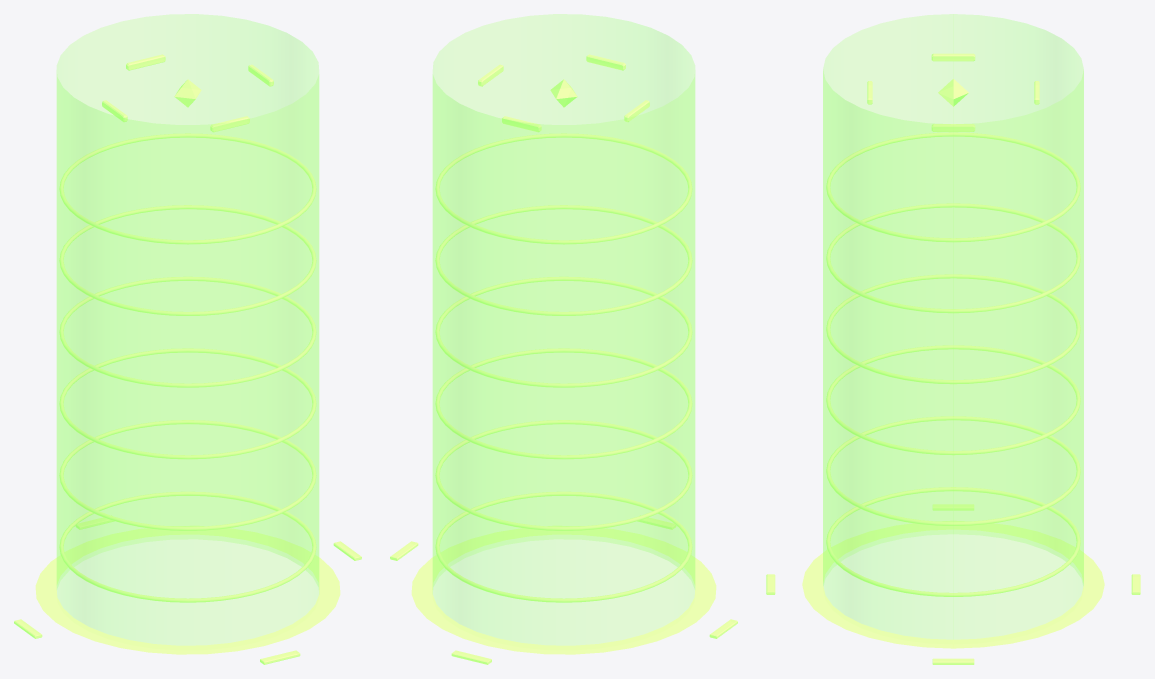
The model's file is vfx_status_reveal.glb.
3 renders of one model, left to right at view 1: azimuth 30°, elevation 25°; view 2: azimuth 150°, elevation 25°; view 3: azimuth 270°, elevation 25°, orthographic.
Visible parts, largest first — view 1: reveal_column, reveal_disc, reveal_scan5, reveal_scan0, reveal_scan1, reveal_scan4, reveal_scan3, reveal_scan2; view 2: reveal_column, reveal_disc, reveal_scan5, reveal_scan0, reveal_scan1, reveal_scan4, reveal_scan3, reveal_scan2; view 3: reveal_column, reveal_disc, reveal_scan5, reveal_scan4, reveal_scan2, reveal_scan0, reveal_scan3, reveal_scan1.
Boxes of the visible parts, x1,y1,x2,y2 form: reveal_column: (56,14,319,645); reveal_disc: (35,526,340,654); reveal_scan5: (59,133,316,244); reveal_scan0: (59,491,316,602); reveal_scan1: (59,420,316,530); reveal_scan4: (59,205,316,315); reveal_scan3: (59,276,316,387); reveal_scan2: (59,348,316,459); reveal_column: (432,14,695,645); reveal_disc: (411,526,716,654); reveal_scan5: (435,133,692,244); reveal_scan0: (435,491,692,602); reveal_scan1: (435,420,692,530); reveal_scan4: (435,205,692,315); reveal_scan3: (435,276,692,387); reveal_scan2: (435,348,692,459); reveal_column: (823,14,1083,639); reveal_disc: (802,521,1104,648); reveal_scan5: (826,132,1080,242); reveal_scan4: (826,203,1080,313); reveal_scan2: (826,345,1080,455); reveal_scan0: (826,487,1080,596); reveal_scan3: (826,274,1080,384); reveal_scan1: (826,416,1080,525).
Bounding box in the file's own units: 1.43 × 2.2 × 1.43.
